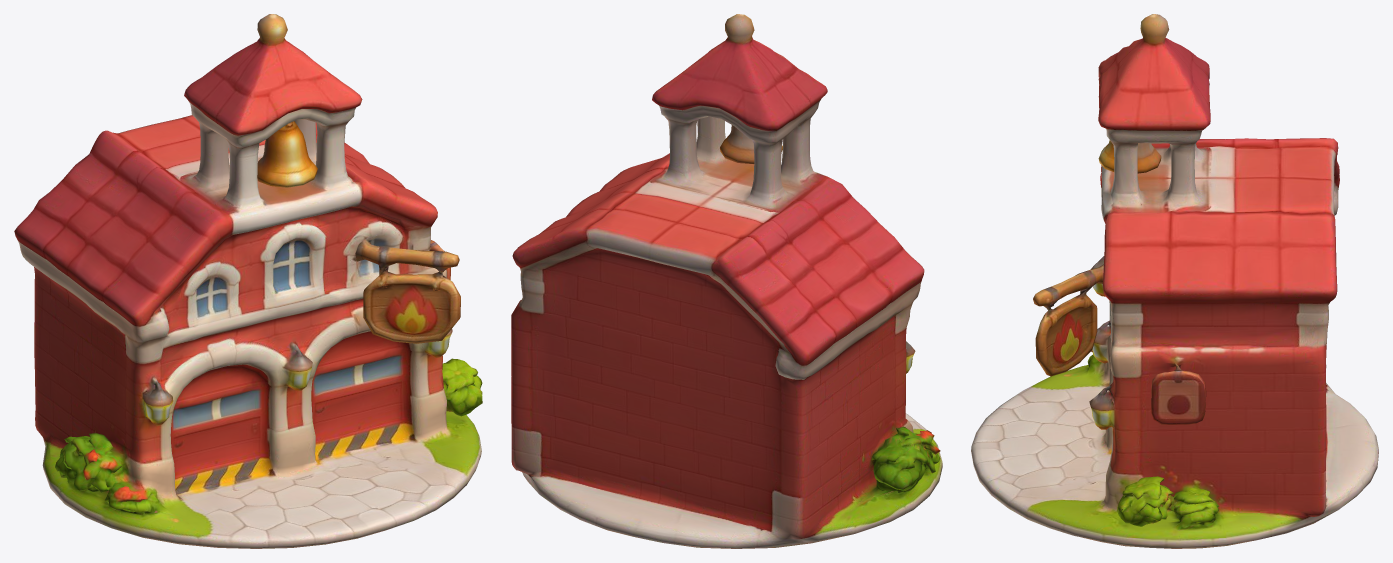
The model's file is 11-fire-station.glb.
3 renders of one model, left to right at view 1: azimuth 30°, elevation 25°; view 2: azimuth 150°, elevation 25°; view 3: azimuth 270°, elevation 25°, orthographic. The views are drawn at different scales.
Parts seen in each view (by area): view 1: tripo_node_aa8eb592-2c93-4e88-8488-0049ff586408; view 2: tripo_node_aa8eb592-2c93-4e88-8488-0049ff586408; view 3: tripo_node_aa8eb592-2c93-4e88-8488-0049ff586408.
Part boxes in pixels (bbox=[...]): tripo_node_aa8eb592-2c93-4e88-8488-0049ff586408: bbox=[14, 14, 482, 548]; tripo_node_aa8eb592-2c93-4e88-8488-0049ff586408: bbox=[511, 14, 942, 548]; tripo_node_aa8eb592-2c93-4e88-8488-0049ff586408: bbox=[971, 14, 1378, 548].
Size of the model in its own units: 0.9008 by 0.9757 by 0.8112.
1 material, 1 textured.
